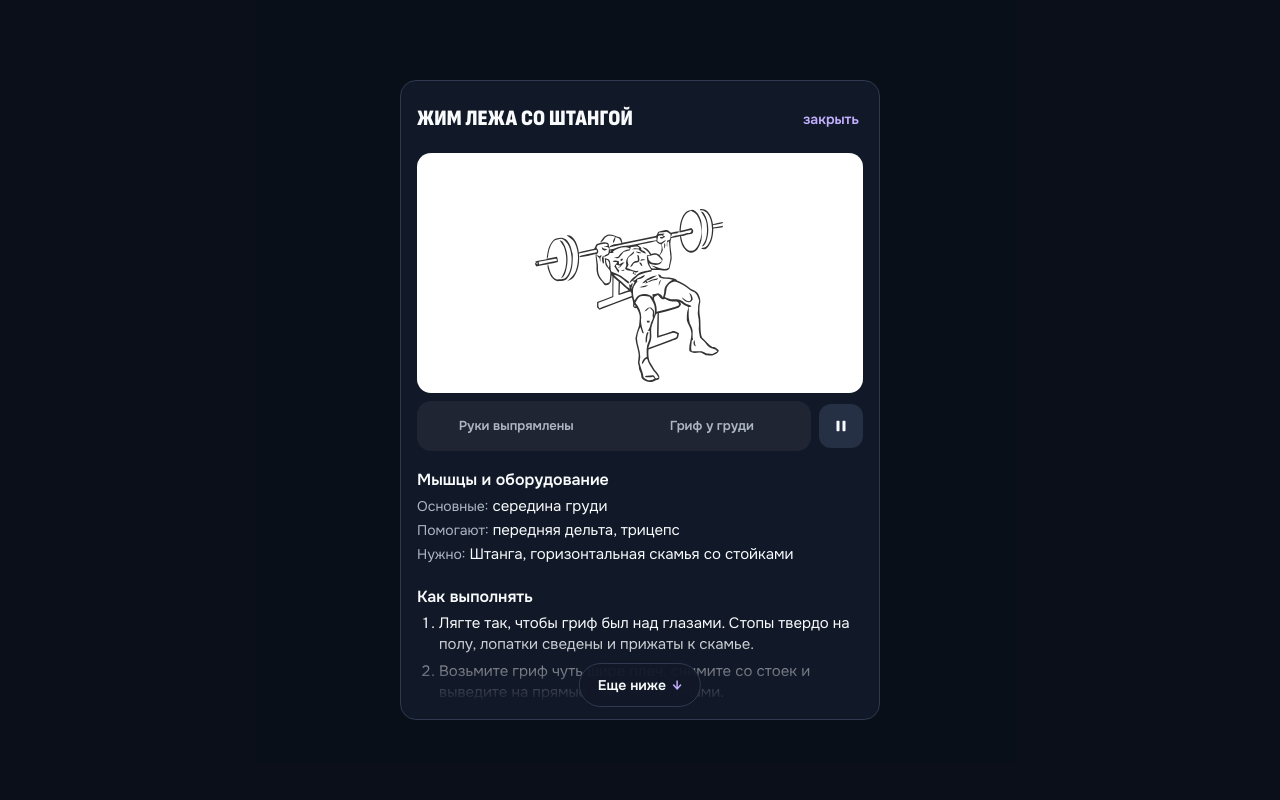
Test case: TechniqueSheet › кадры сменяются сами без мигания подписей; пауза и выбор позы останавливают смену
Expected: the button "Руки выпрямлены" is shown, [420,404,612,448]
Click the button named "Остановить смену кадров". click: {"x": 841, "y": 426}
box: [819,404,863,448]
Wait 5000 ms
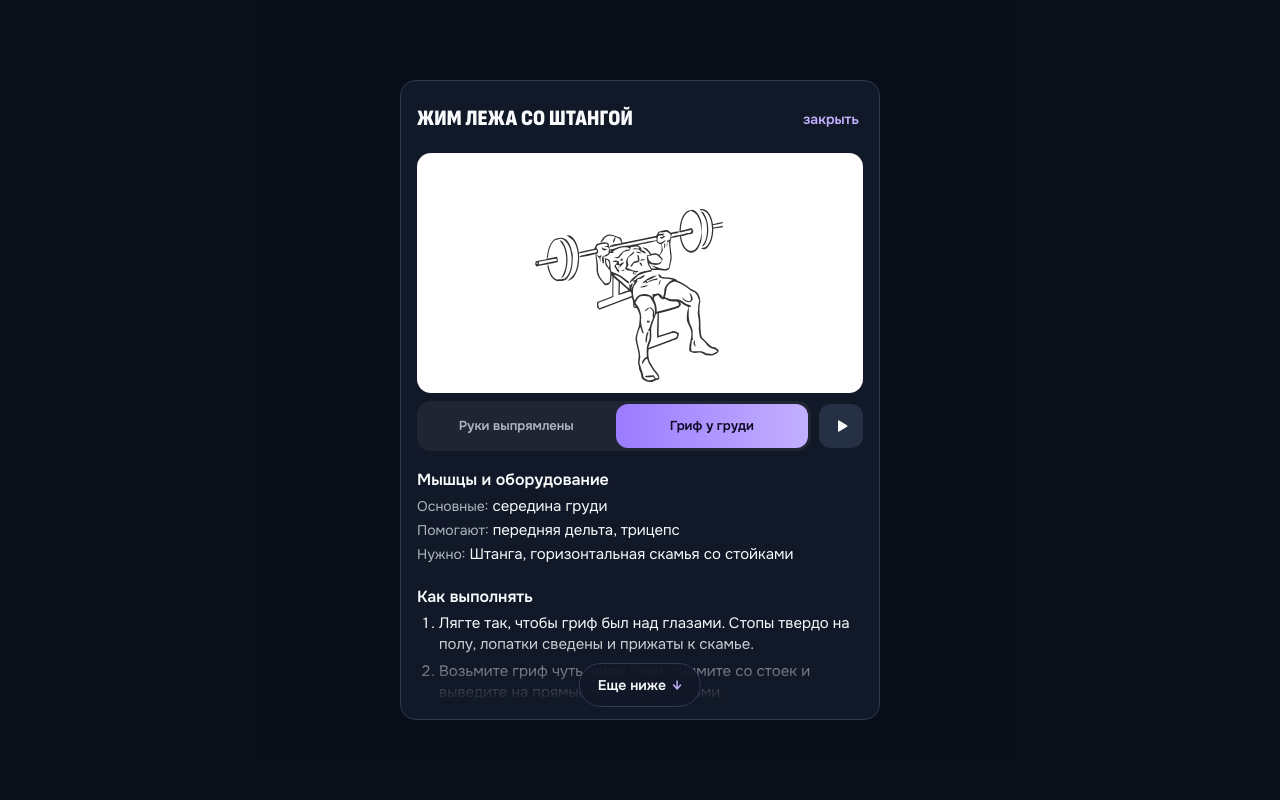
Now the button "Гриф у груди" is pressed, box [616,404,808,448]
Click the button named "Запустить смену кадров". click: {"x": 841, "y": 426}
box: [819,404,863,448]
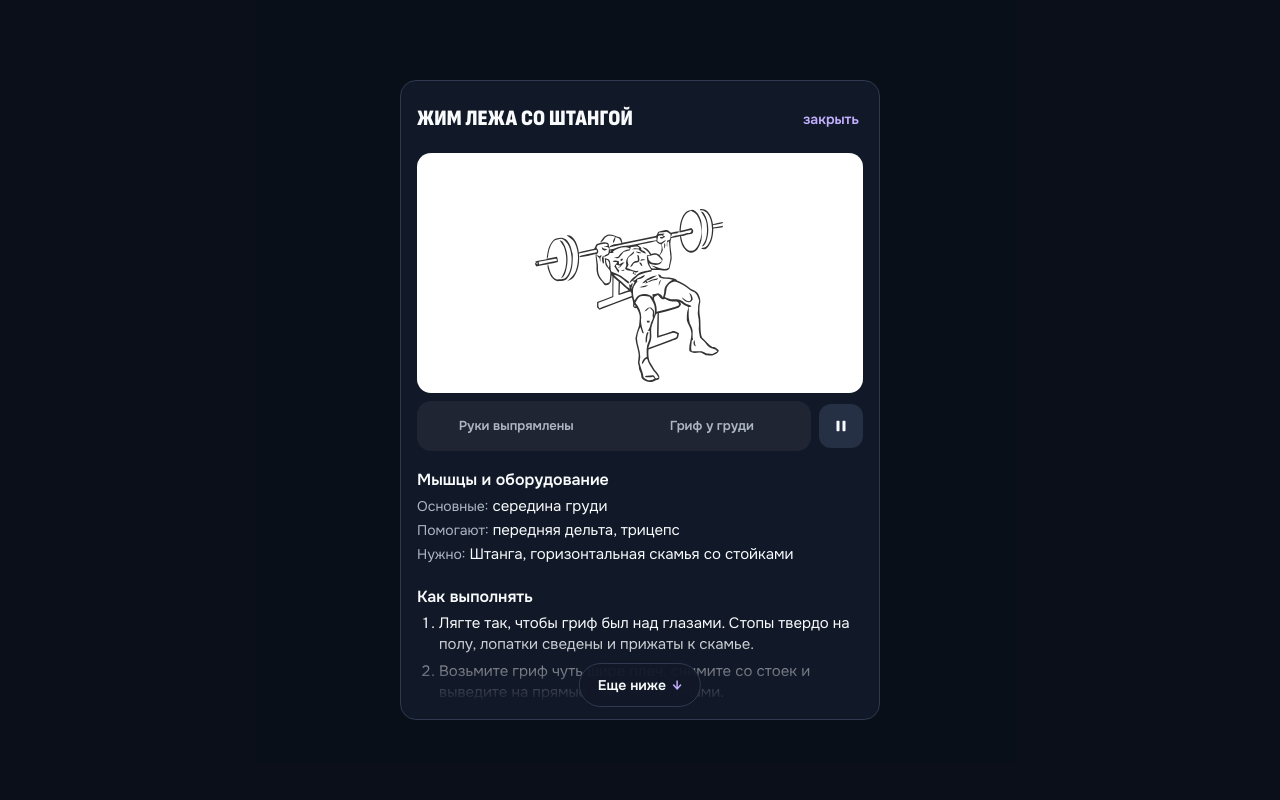
Click the button "Руки выпрямлены". click: {"x": 516, "y": 426}
box: [420,404,612,448]
Wait 5000 ms
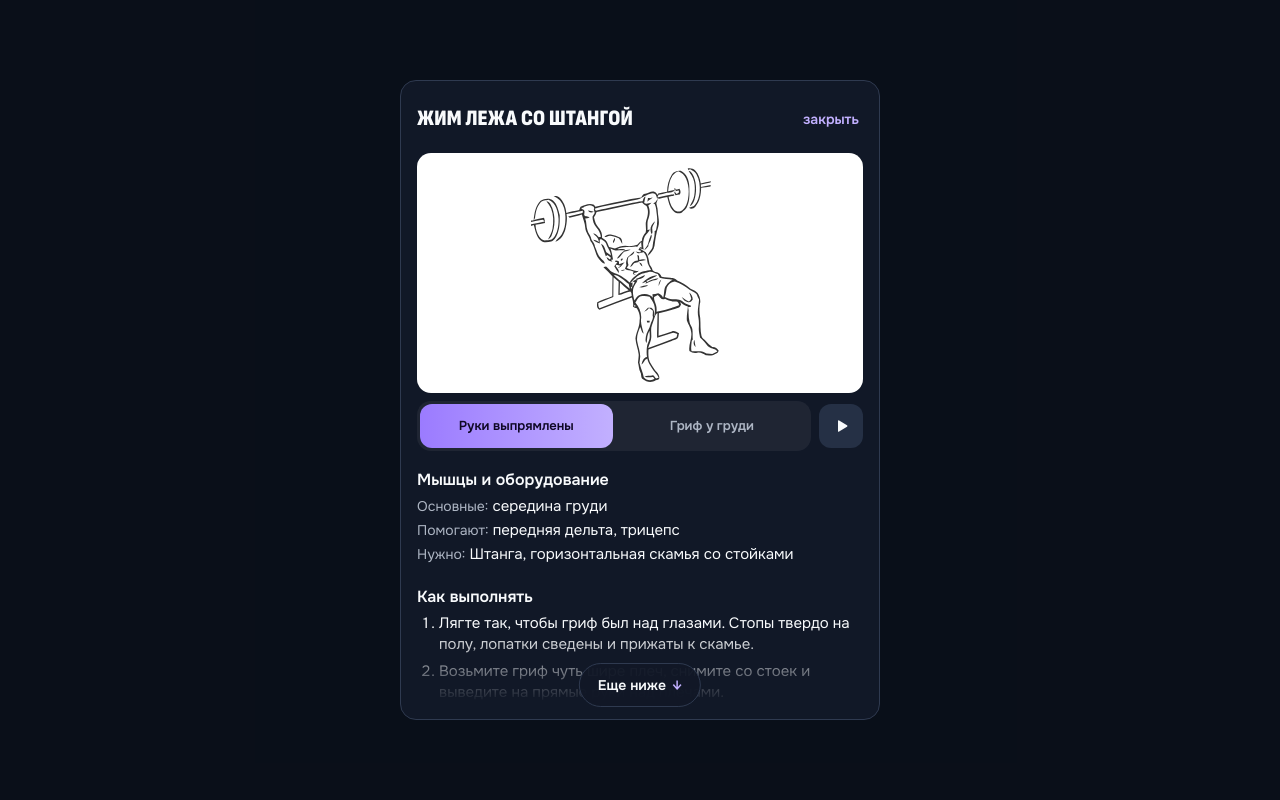
Now the button named "Запустить смену кадров" is shown, box [819,404,863,448]
